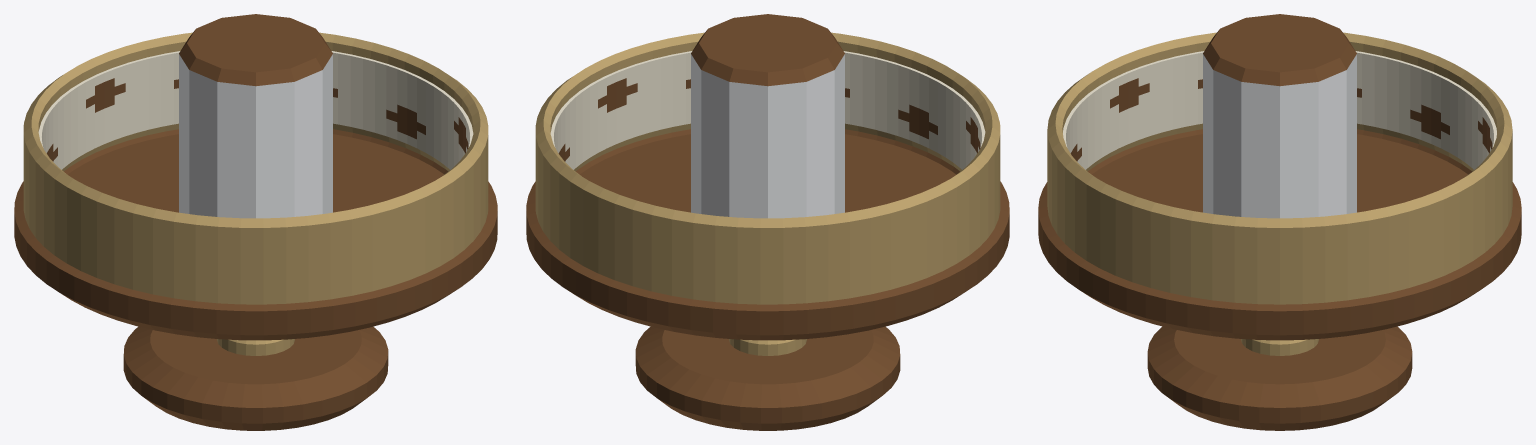
3 renders of one model, left to right at view 1: azimuth 30°, elevation 25°; view 2: azimuth 150°, elevation 25°; view 3: azimuth 270°, elevation 25°, orthographic.
Parts seen in each view (by area): view 1: WholeLowOuterBandRetainingRim, WholeLowOpenCircularCarrierTray, WholeCentralTwelveFaceMirrorPrism, WholeGroundFootSteppedPedestal, WholeInnerInventedPictureBand, WholeTurnedSupportSpindle; view 2: WholeLowOuterBandRetainingRim, WholeLowOpenCircularCarrierTray, WholeCentralTwelveFaceMirrorPrism, WholeGroundFootSteppedPedestal, WholeInnerInventedPictureBand, WholeTurnedSupportSpindle; view 3: WholeLowOuterBandRetainingRim, WholeLowOpenCircularCarrierTray, WholeCentralTwelveFaceMirrorPrism, WholeGroundFootSteppedPedestal, WholeInnerInventedPictureBand, WholeTurnedSupportSpindle.
Part boxes in pixels (x1=…): WholeLowOuterBandRetainingRim: x1=23, y1=32, x2=488, y2=304; WholeLowOpenCircularCarrierTray: x1=14, y1=129, x2=497, y2=340; WholeCentralTwelveFaceMirrorPrism: x1=179, y1=14, x2=332, y2=218; WholeGroundFootSteppedPedestal: x1=123, y1=326, x2=388, y2=430; WholeInnerInventedPictureBand: x1=38, y1=51, x2=473, y2=169; WholeTurnedSupportSpindle: x1=217, y1=339, x2=294, y2=355; WholeLowOuterBandRetainingRim: x1=535, y1=32, x2=1000, y2=304; WholeLowOpenCircularCarrierTray: x1=526, y1=129, x2=1009, y2=340; WholeCentralTwelveFaceMirrorPrism: x1=691, y1=14, x2=844, y2=218; WholeGroundFootSteppedPedestal: x1=635, y1=326, x2=900, y2=430; WholeInnerInventedPictureBand: x1=550, y1=51, x2=985, y2=169; WholeTurnedSupportSpindle: x1=729, y1=339, x2=806, y2=355; WholeLowOuterBandRetainingRim: x1=1047, y1=32, x2=1512, y2=304; WholeLowOpenCircularCarrierTray: x1=1038, y1=129, x2=1521, y2=340; WholeCentralTwelveFaceMirrorPrism: x1=1203, y1=14, x2=1356, y2=218; WholeGroundFootSteppedPedestal: x1=1147, y1=326, x2=1412, y2=430; WholeInnerInventedPictureBand: x1=1063, y1=51, x2=1496, y2=169; WholeTurnedSupportSpindle: x1=1241, y1=339, x2=1318, y2=355.
Bounding box in the file's own units: 0.42 × 0.325 × 0.42.
